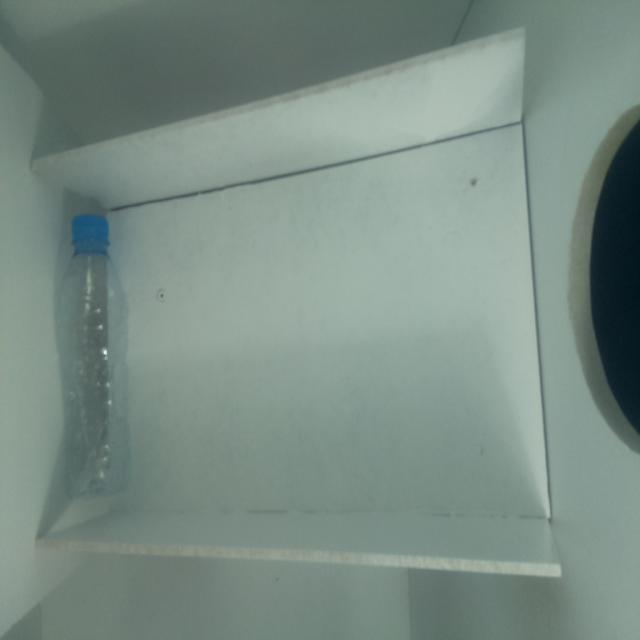Anorganik: (54, 199, 143, 501)
